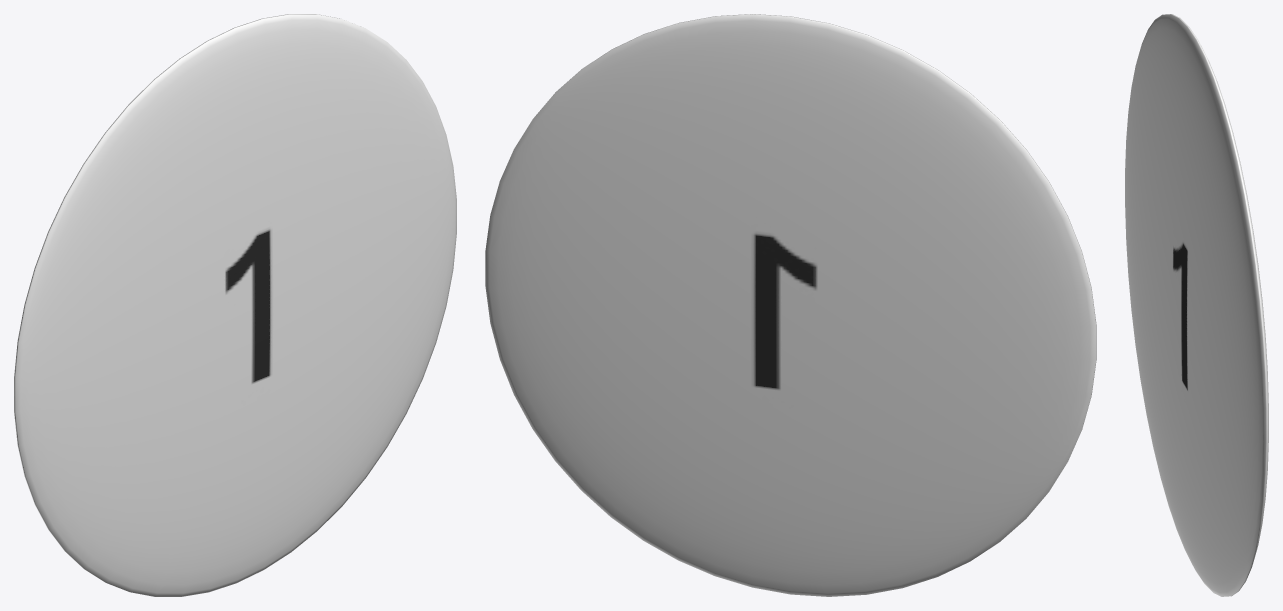
Rendered from anniu3.FBX.
3 views of the same model, side by side, from view 1: azimuth 30°, elevation 25°; view 2: azimuth 150°, elevation 25°; view 3: azimuth 270°, elevation 25° (orthographic). The views are drawn at different scales.
Parts seen in each view (by area): view 1: Sphere001; view 2: Sphere001; view 3: Sphere001.
Part boxes in pixels (box(x1,y1,x2,y2)): Sphere001: box(14, 14, 456, 596); Sphere001: box(485, 14, 1096, 596); Sphere001: box(1125, 14, 1268, 596).
Size of the model in its own units: 10.65 by 10.98 by 2.69.
